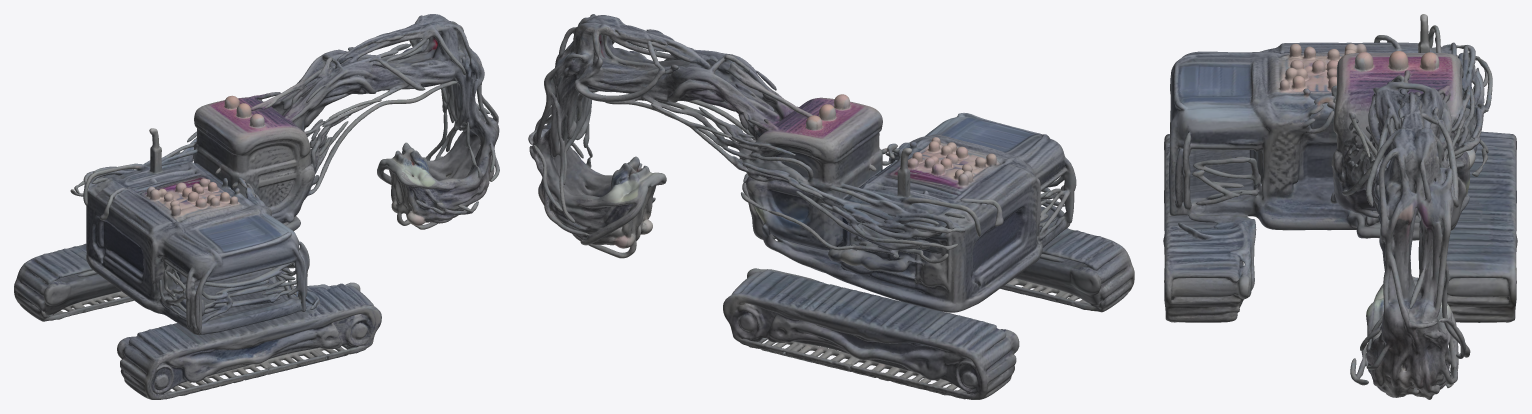
File: infrastructure-more-positive.glb
3 renders of one model, left to right at view 1: azimuth 30°, elevation 25°; view 2: azimuth 150°, elevation 25°; view 3: azimuth 270°, elevation 25°, orthographic. The views are drawn at different scales.
Parts seen in each view (by area): view 1: tripo_node_d5b85799-cfe0-4d0f-b260-219c67c375b2; view 2: tripo_node_d5b85799-cfe0-4d0f-b260-219c67c375b2; view 3: tripo_node_d5b85799-cfe0-4d0f-b260-219c67c375b2.
Part boxes in pixels (x1,y1,x2,y2): tripo_node_d5b85799-cfe0-4d0f-b260-219c67c375b2: (14, 14, 499, 399); tripo_node_d5b85799-cfe0-4d0f-b260-219c67c375b2: (528, 14, 1134, 399); tripo_node_d5b85799-cfe0-4d0f-b260-219c67c375b2: (1163, 14, 1517, 399).
Bounding box in the file's own units: 0.9999 × 0.487 × 0.5262.
Materials: 1 (1 with a texture image).
